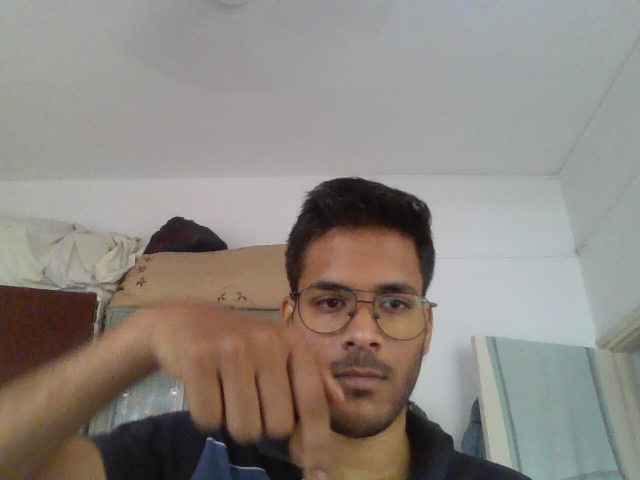yes: (138, 293, 366, 480)
